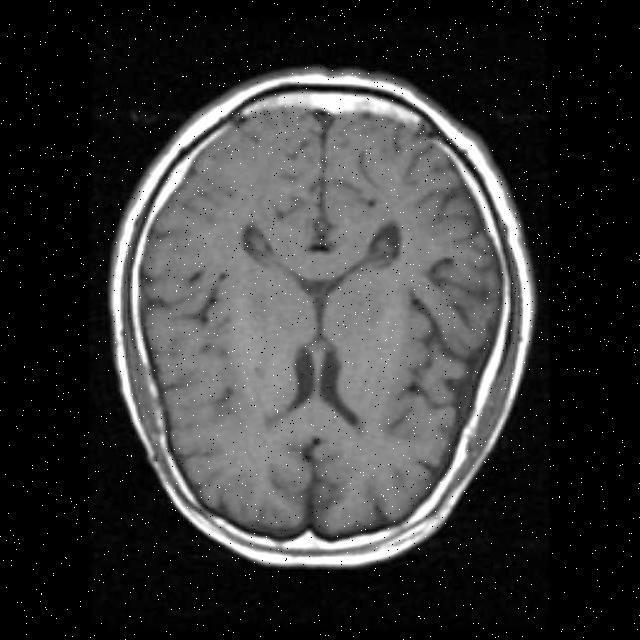No_Tumor: (110, 69, 533, 564)
